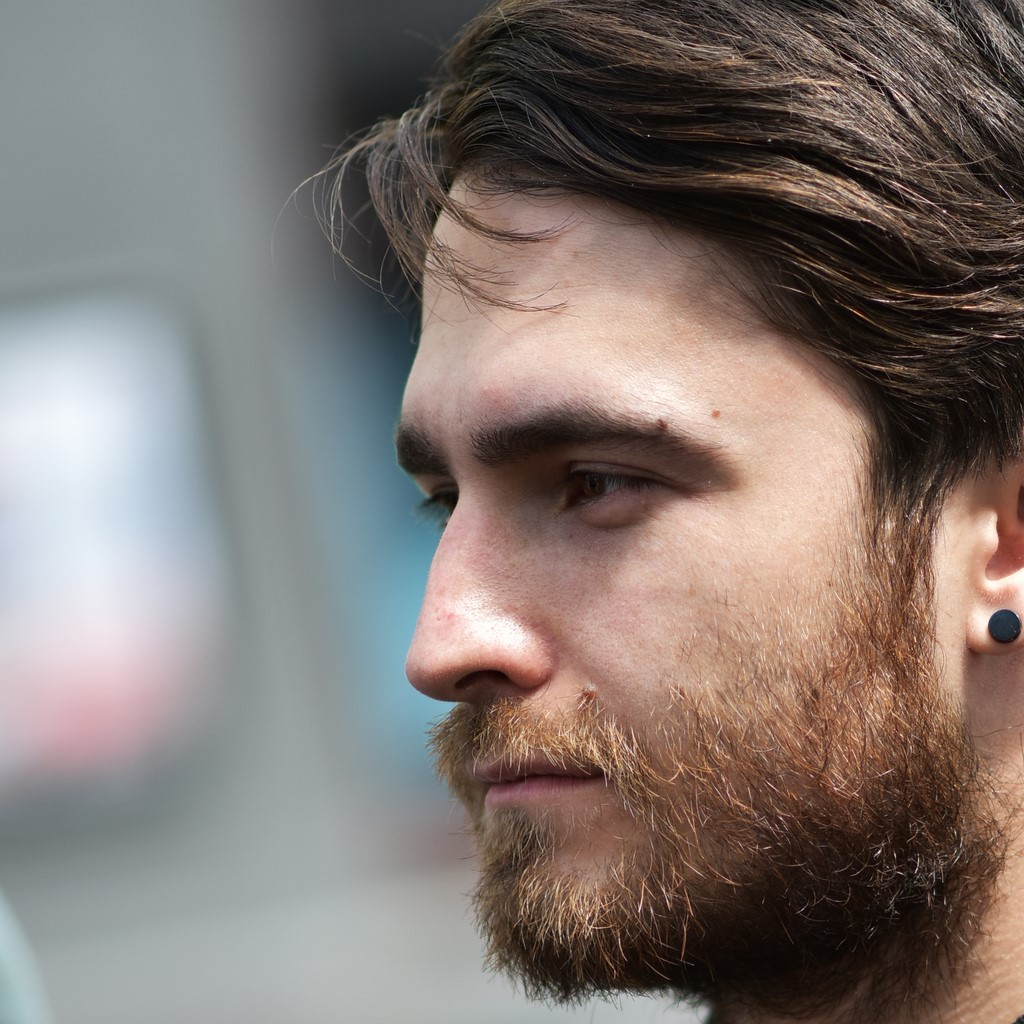sin_mascara: (376, 57, 1016, 975)
